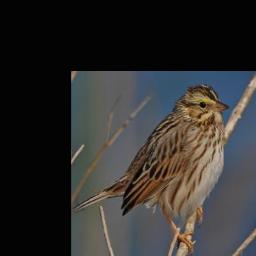Sparrow: (71, 84, 230, 256)
